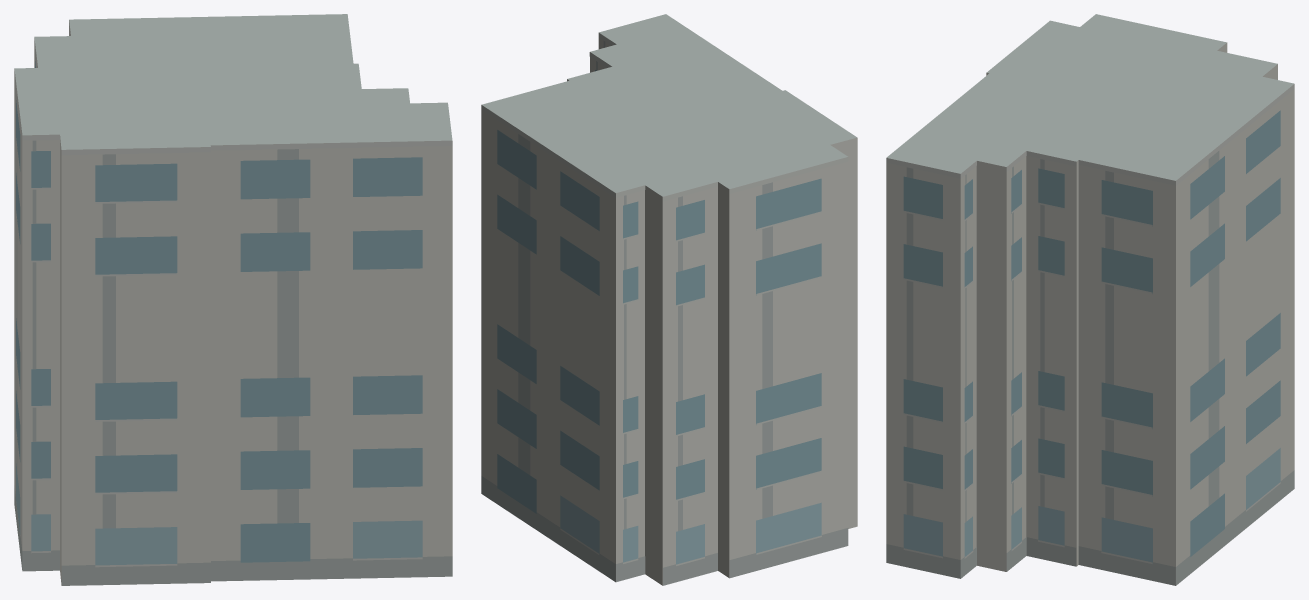
The model's file is survey-upis-32888667.glb.
The picture shows the model from 3 angles, left to right: view 1: azimuth 30°, elevation 25°; view 2: azimuth 150°, elevation 25°; view 3: azimuth 270°, elevation 25°; orthographic projection. The views are drawn at different scales.
Parts seen in each view (by area): view 1: survey-upis-32888667.tmp; view 2: survey-upis-32888667.tmp; view 3: survey-upis-32888667.tmp.
Boxes of the visible parts, box(x1,y1,x2,y2) form: survey-upis-32888667.tmp: box(14, 14, 452, 585); survey-upis-32888667.tmp: box(481, 14, 857, 585); survey-upis-32888667.tmp: box(886, 14, 1294, 585).
Size of the model in its own units: 17.24 by 19.5 by 17.83.
